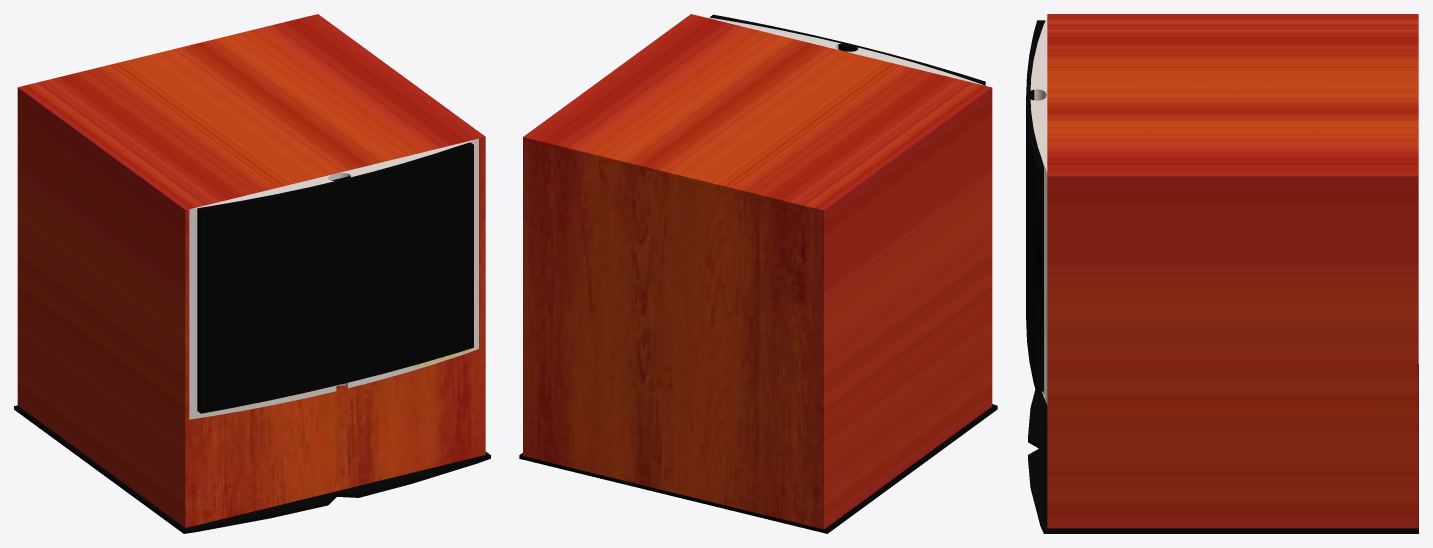
The model's file is sh-contrib-enceinte-colonne.glb.
3 renders of one model, left to right at view 1: azimuth 30°, elevation 25°; view 2: azimuth 150°, elevation 25°; view 3: azimuth 270°, elevation 25°, orthographic. The views are drawn at different scales.
Parts seen in each view (by area): view 1: Cube_2_1, Boolean_6_2, Boolean_1_14; view 2: Cube_2_1, Boolean_6_2, Boolean_1_14; view 3: Cube_2_1, Boolean_6_2, Boolean_1_14.
Part boxes in pixels (<box>): Cube_2_1: <box>17,14,485,527</box>; Boolean_6_2: <box>14,142,490,533</box>; Boolean_1_14: <box>189,138,478,419</box>; Cube_2_1: <box>523,14,992,529</box>; Boolean_6_2: <box>519,14,997,533</box>; Boolean_1_14: <box>701,16,984,85</box>; Cube_2_1: <box>1047,14,1418,528</box>; Boolean_6_2: <box>1026,20,1418,533</box>; Boolean_1_14: <box>1030,17,1047,404</box>.
Size of the model in its own units: 1 by 1 by 1.
Materials: 4 (1 with a texture image).
